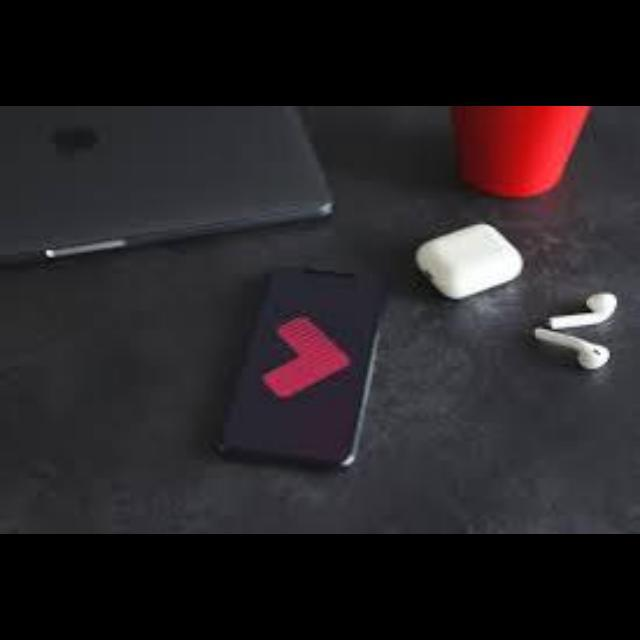Phone: (242, 246, 392, 478)
